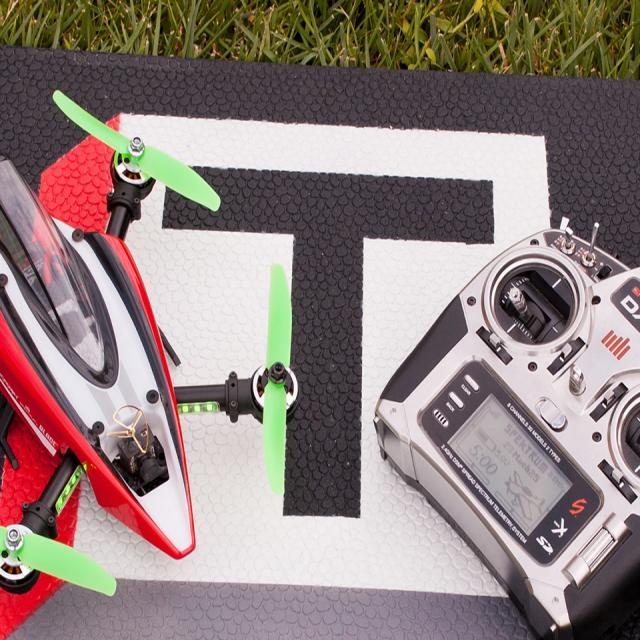drone: (0, 113, 349, 626)
